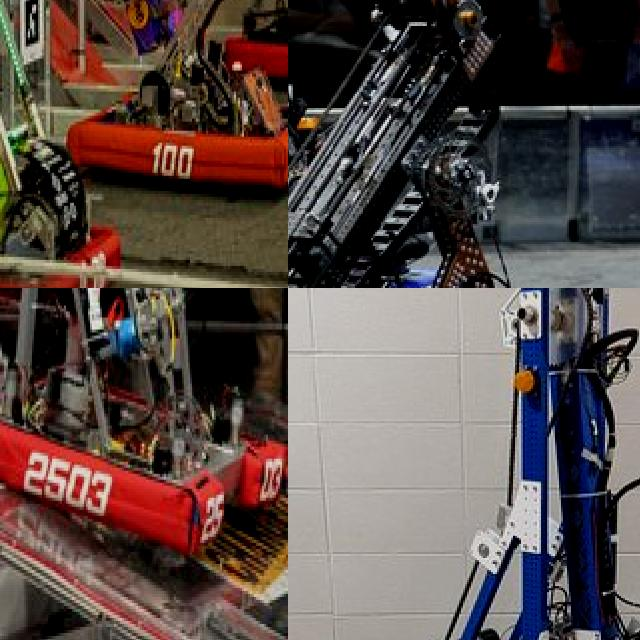FRC-Robots: (288, 0, 640, 288), (366, 288, 640, 640), (0, 288, 288, 564), (69, 0, 288, 188), (0, 0, 110, 288)
